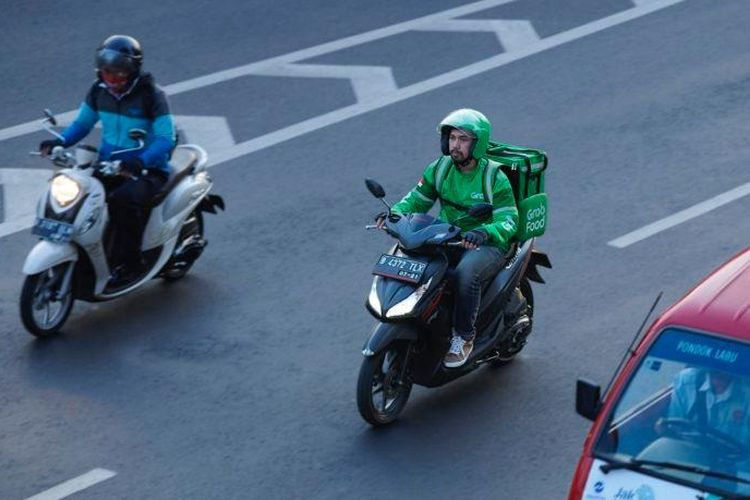motorbike: (355, 103, 546, 428), (20, 33, 222, 334)
